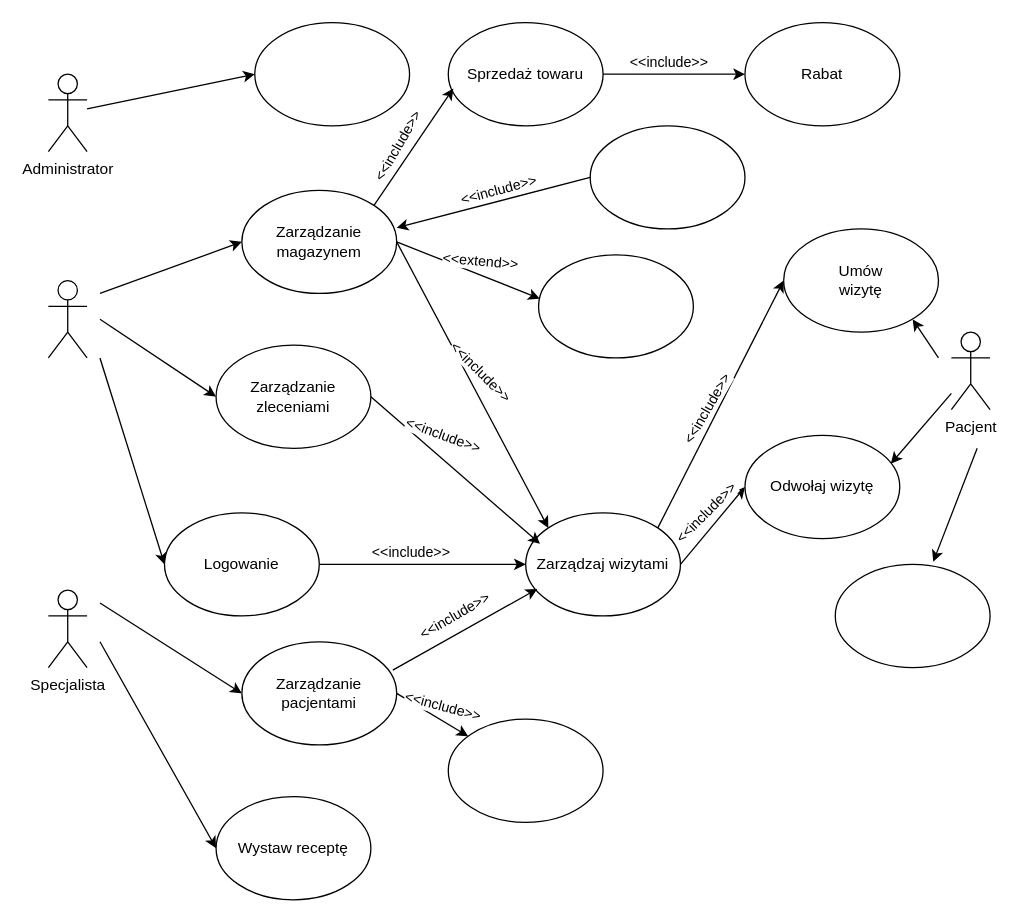
The diagram is 1019 pixels wide and 922 high, and some of its shapes have lost their labels. The shapes that lost their labels are listed below. From the top down, each one's box as (x1, y1, x2, y2) in pixels, then its label:
(253, 21, 410, 126): Administracja systemem
(589, 124, 745, 229): Zarządzanie płatnością(CRUD)
(47, 279, 87, 358): Optyk
(537, 253, 693, 358): Wyślij powiadomienie SMS o odbiorze
(834, 563, 990, 668): Sprawdź status zlecenia
(447, 718, 603, 822): Ewidencja historii badań
